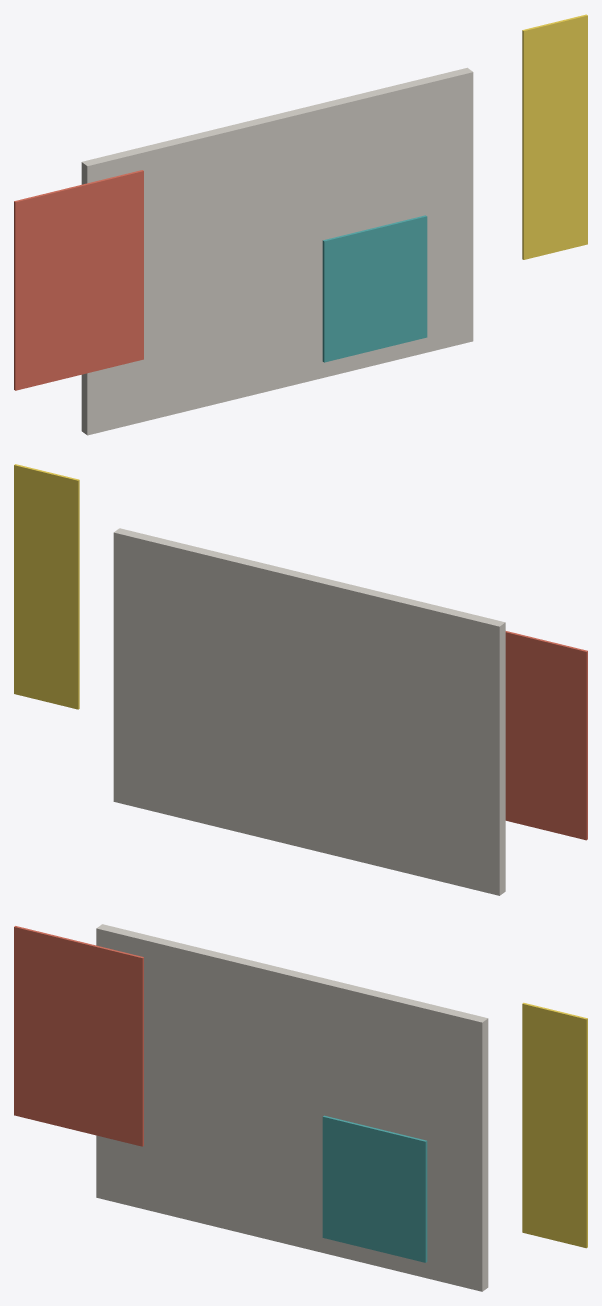
Rendered from mural.glb.
3 views of the same model, one above another, from view 1: azimuth 30°, elevation 25°; view 2: azimuth 150°, elevation 25°; view 3: azimuth 330°, elevation 25° (orthographic).
Parts seen in each view (by area): view 1: mural_base, mural_f1, mural_f3, mural_f2; view 2: mural_base, mural_f1, mural_f3; view 3: mural_base, mural_f1, mural_f3, mural_f2.
Boxes of the visible parts, x1,y1,x2,y2 form: mural_base: (81,67,473,435); mural_f1: (14,170,143,390); mural_f3: (522,14,587,259); mural_f2: (322,215,427,362); mural_base: (113,528,505,895); mural_f1: (505,631,587,840); mural_f3: (14,464,79,709); mural_base: (96,924,488,1291); mural_f1: (14,926,143,1146); mural_f3: (522,1002,587,1248); mural_f2: (322,1115,427,1262).
Bounding box in the file's own units: 2.22 × 1.13 × 0.075.
